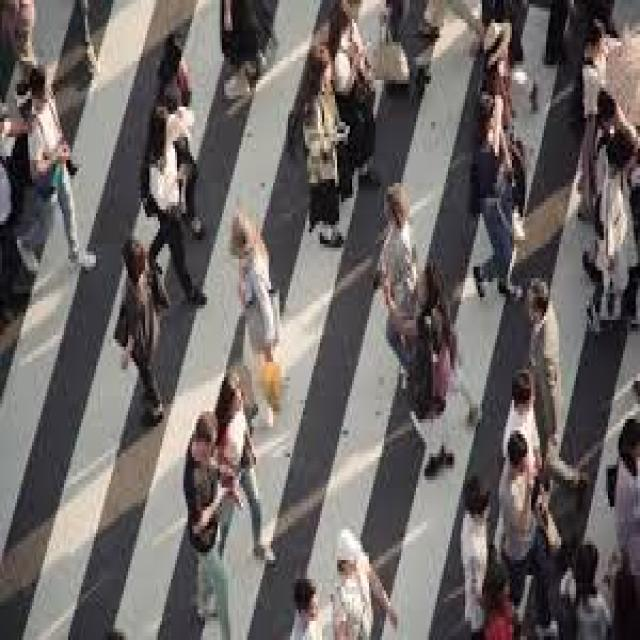Pedestrians: (19, 65, 98, 282), (465, 88, 527, 308), (228, 202, 288, 427), (141, 106, 209, 304), (213, 373, 280, 564), (525, 274, 576, 518), (292, 46, 352, 251), (188, 412, 239, 636), (115, 236, 169, 431), (376, 183, 422, 400), (328, 525, 398, 640), (459, 480, 495, 621)
